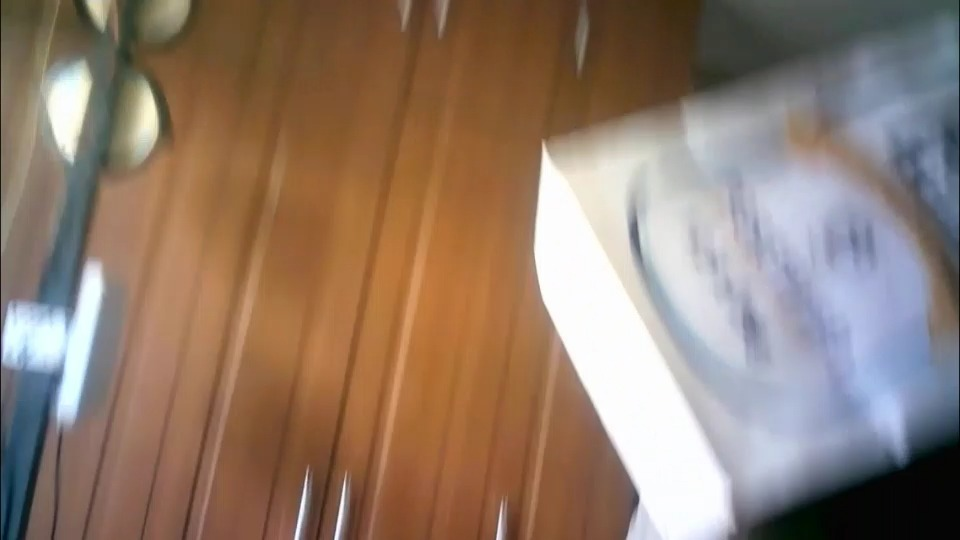wheat_flour_blue_label: (536, 8, 952, 530)
